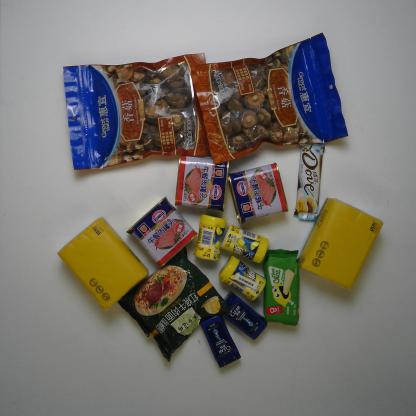Canned Food: (123, 196, 199, 268), (227, 162, 289, 225), (174, 155, 228, 211)
Chocolate: (292, 142, 325, 220)
Dessert: (261, 248, 302, 327)
Dried Food: (191, 32, 350, 167), (60, 51, 218, 173)
Gum: (218, 255, 267, 302), (219, 224, 270, 264), (192, 214, 228, 262)
Instant Noodles: (114, 246, 226, 363)
Personal Hygiene: (198, 313, 241, 370), (221, 291, 268, 340)
Tissue: (56, 216, 150, 316), (294, 196, 385, 293)
